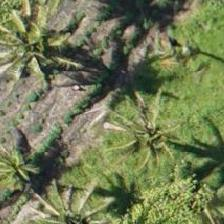coconut_tree: (104, 83, 194, 173), (0, 11, 71, 101), (24, 175, 114, 223)
